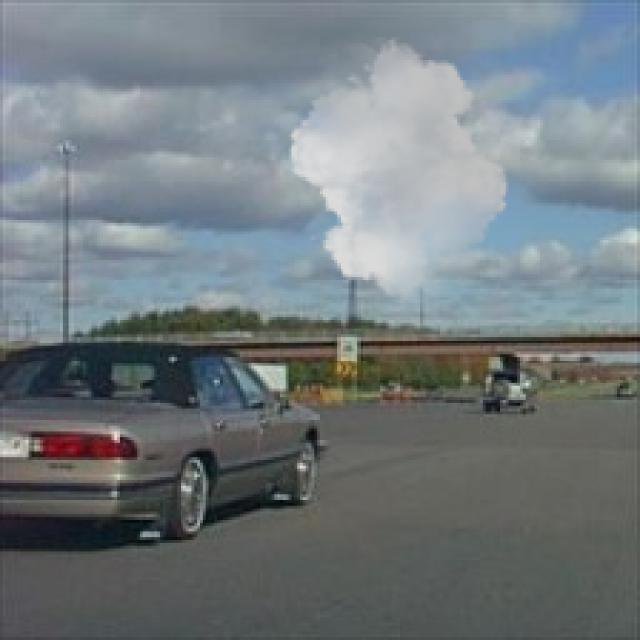Smoke: (280, 37, 517, 303)
